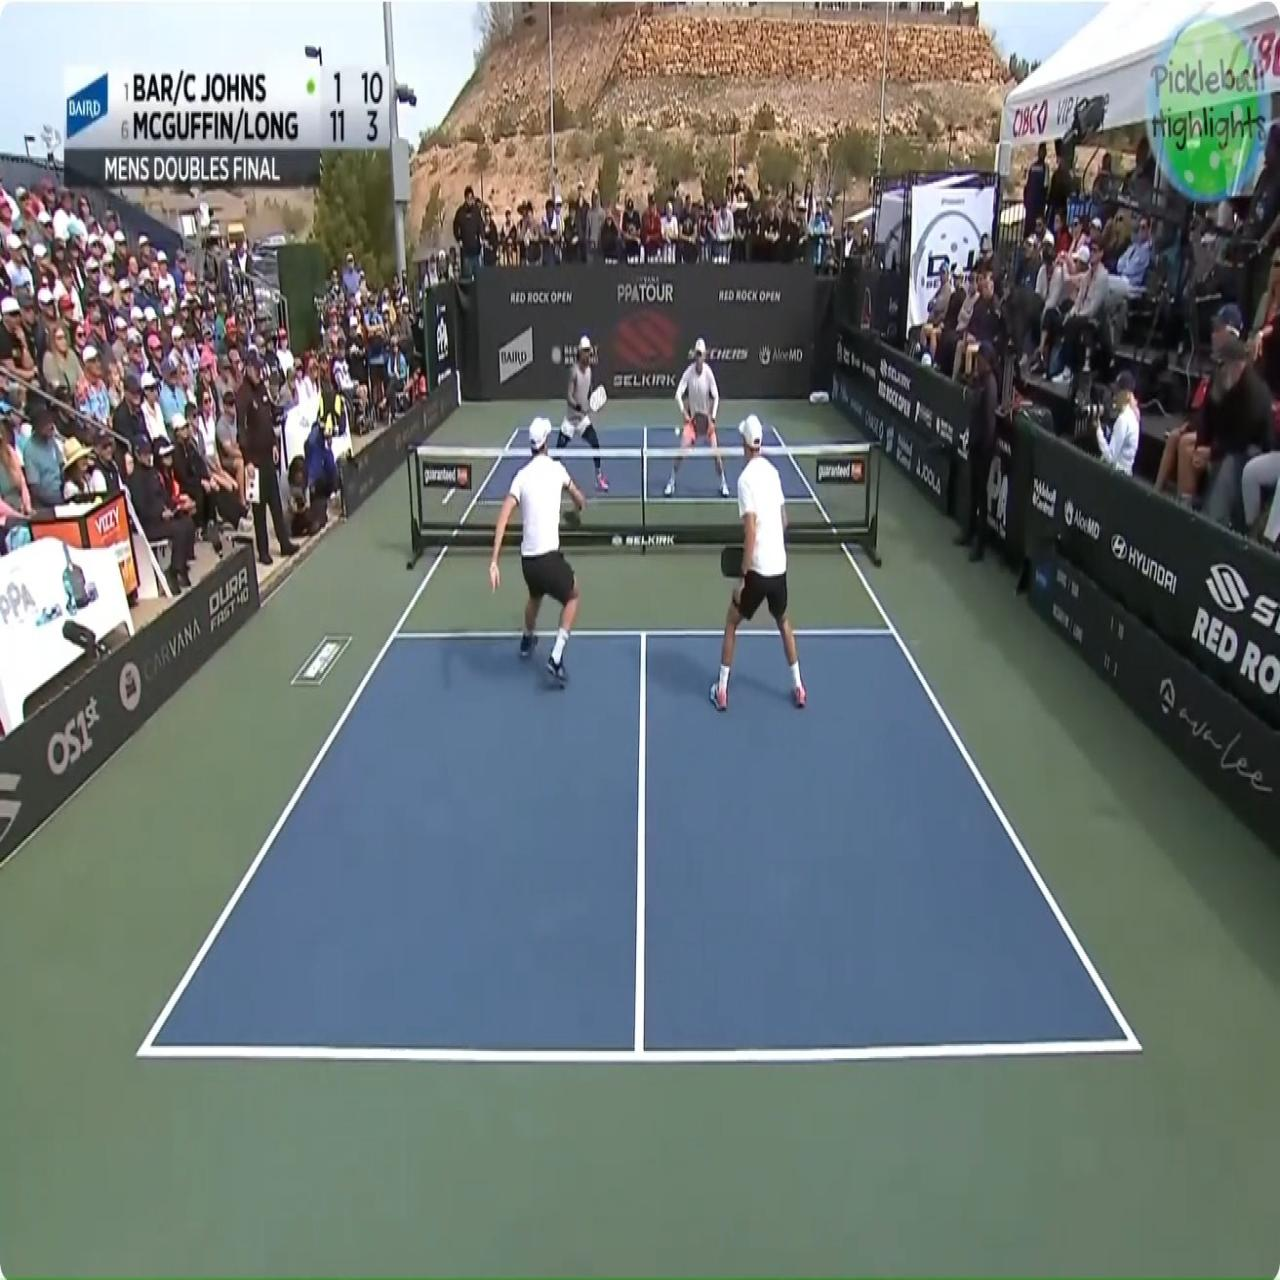pickleball: (674, 424, 681, 437)
